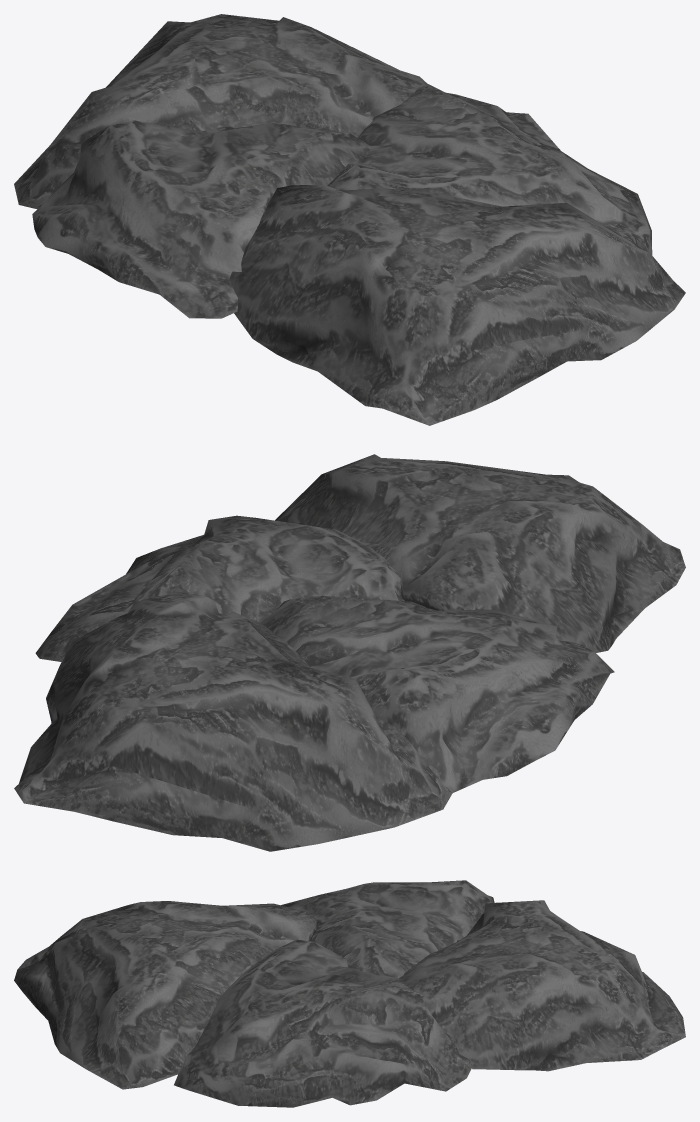
The model's file is Rock_04_Grp.fbx.
The picture shows the model from 3 angles, top to bottom: view 1: azimuth 30°, elevation 25°; view 2: azimuth 150°, elevation 25°; view 3: azimuth 270°, elevation 25°; orthographic projection. The views are drawn at different scales.
Parts seen in each view (by area): view 1: Rock_04_Grp; view 2: Rock_04_Grp; view 3: Rock_04_Grp.
Boxes of the visible parts, x1,y1,x2,y2 form: Rock_04_Grp: (14,14,685,425); Rock_04_Grp: (14,454,685,851); Rock_04_Grp: (14,880,685,1107).
Bounding box in the file's own units: 10.21 × 2.41 × 15.16.
